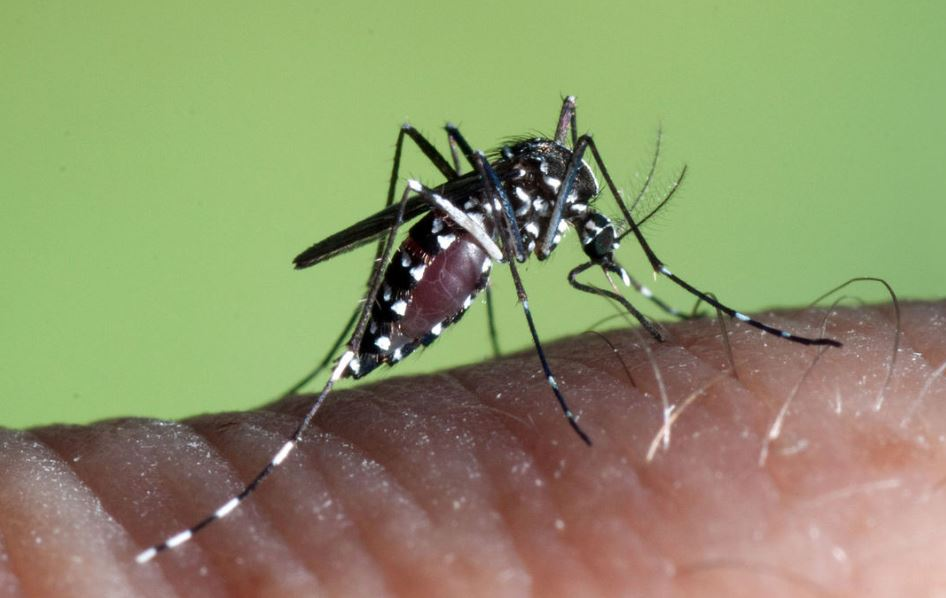dengue_mosquito: (292, 91, 717, 435)
